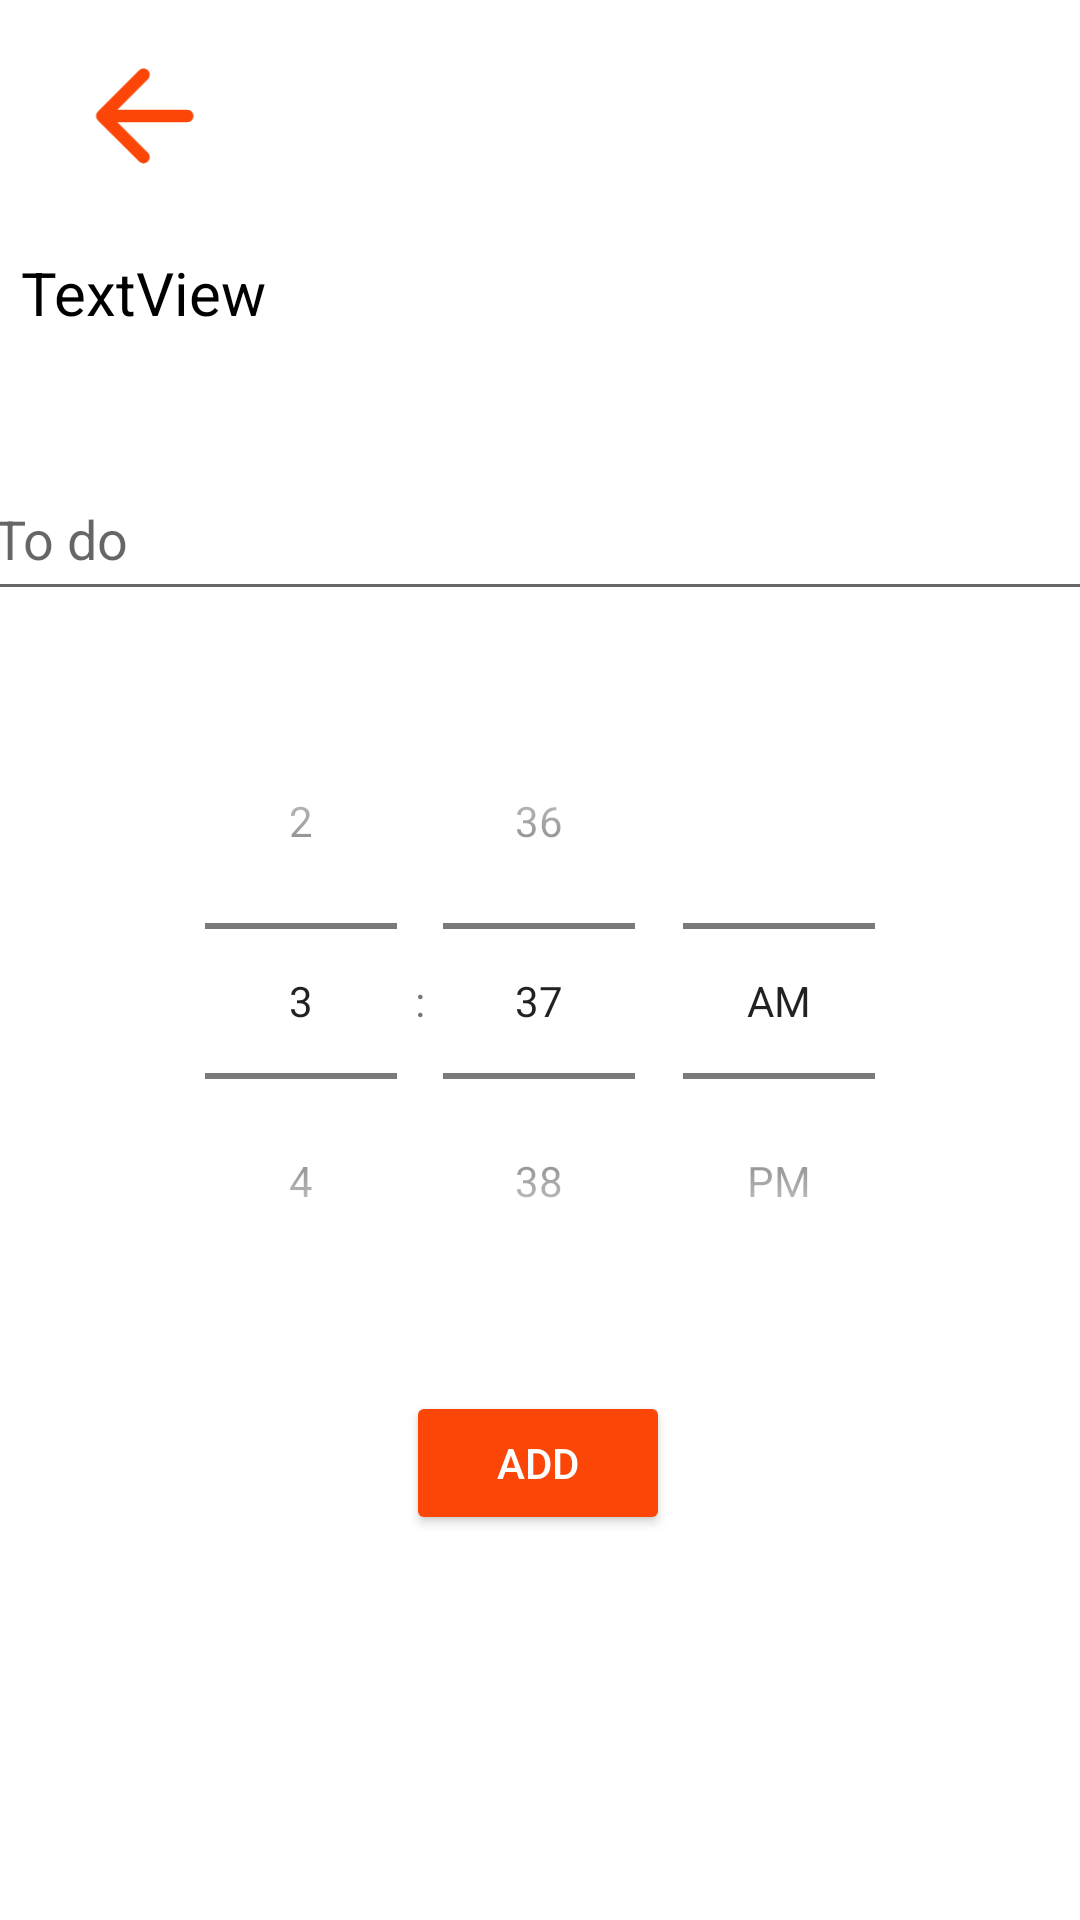

Point at icon controls on the screen. Image size 1080*1920, points as (x=x, y=y).
back: (x=144, y=116)
